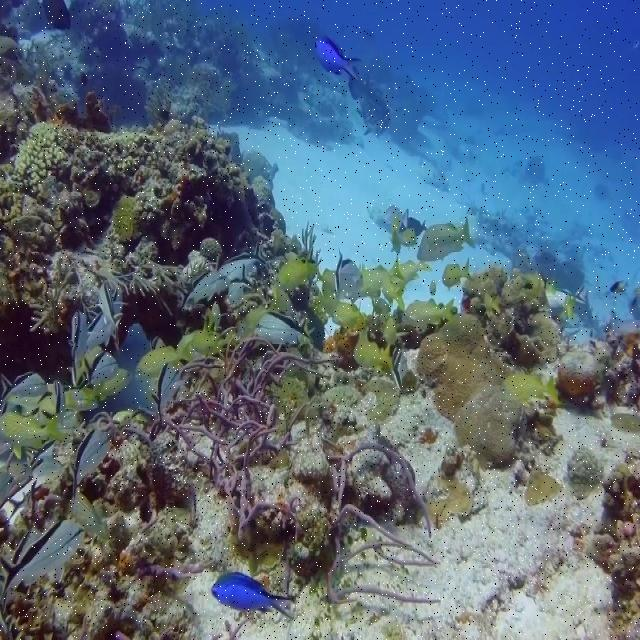fish: (0, 520, 83, 613), (212, 570, 296, 620), (0, 411, 68, 462), (72, 424, 113, 500), (416, 213, 477, 261), (224, 239, 270, 292), (86, 280, 121, 349), (137, 338, 193, 377), (176, 267, 231, 306), (150, 362, 184, 425), (253, 310, 314, 345), (314, 35, 363, 78), (499, 369, 559, 403), (269, 254, 318, 295), (0, 368, 49, 409), (77, 347, 123, 388), (69, 311, 90, 385), (407, 297, 455, 329), (333, 249, 363, 296), (354, 338, 394, 373), (441, 258, 471, 288)
reefs: (166, 333, 344, 541), (322, 440, 443, 609), (418, 313, 520, 468), (463, 264, 561, 366), (556, 347, 599, 398)
